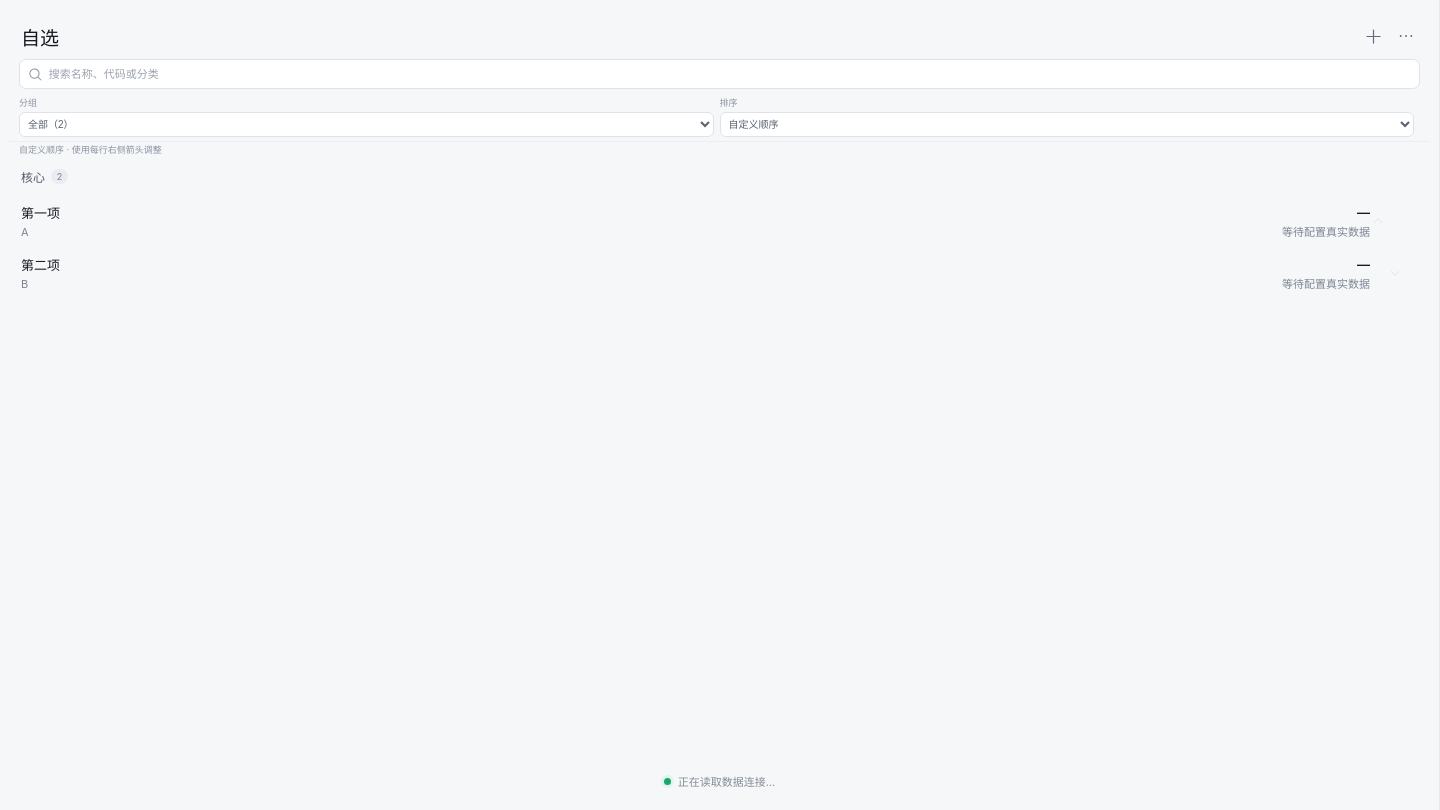
WatchlistSidebar custom ordering › does not offer reorder actions while a metric sort is active
Select "名称" in the dropdown named "自选排序": (1067, 124) [720,112,1414,137]
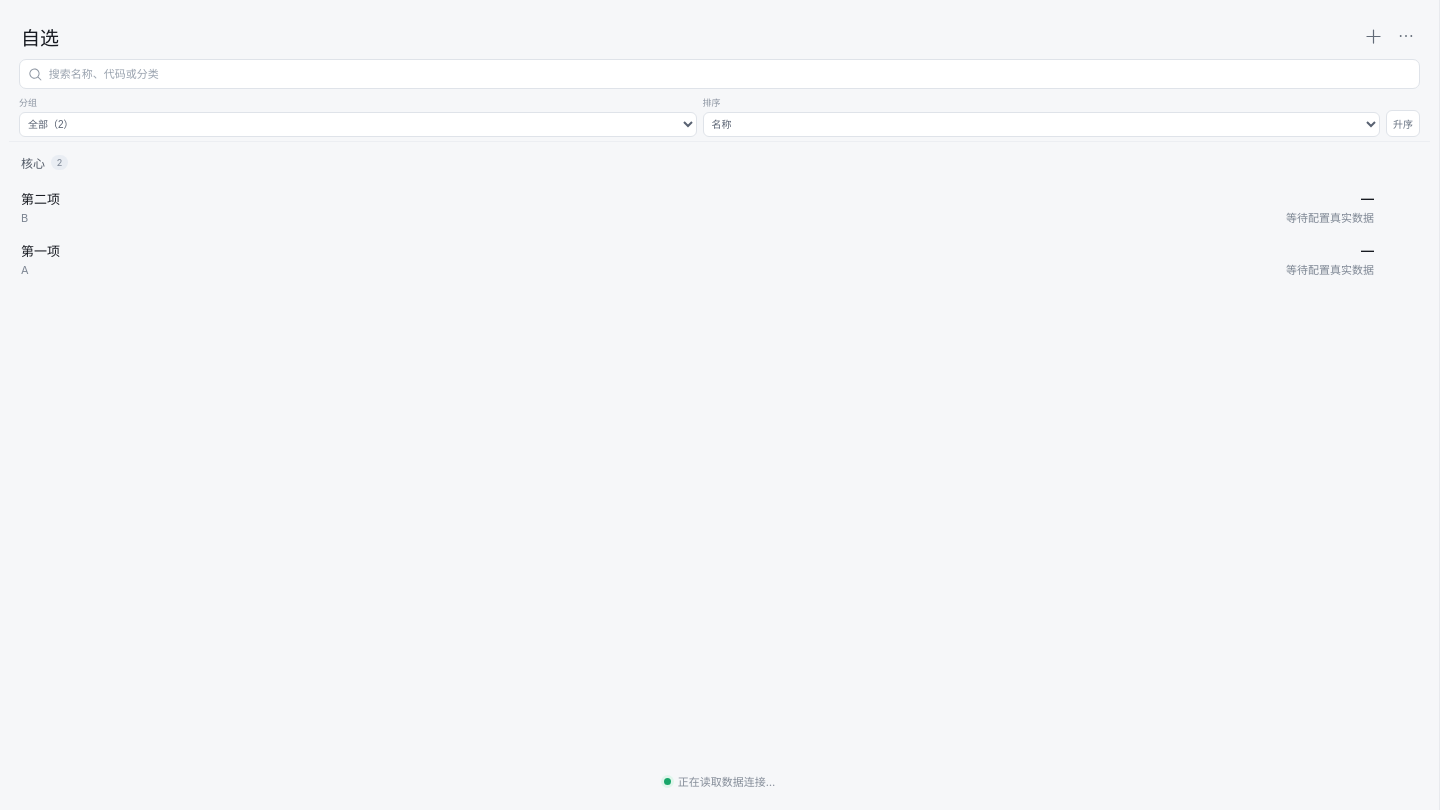
Check: the button "上移A" is gone
